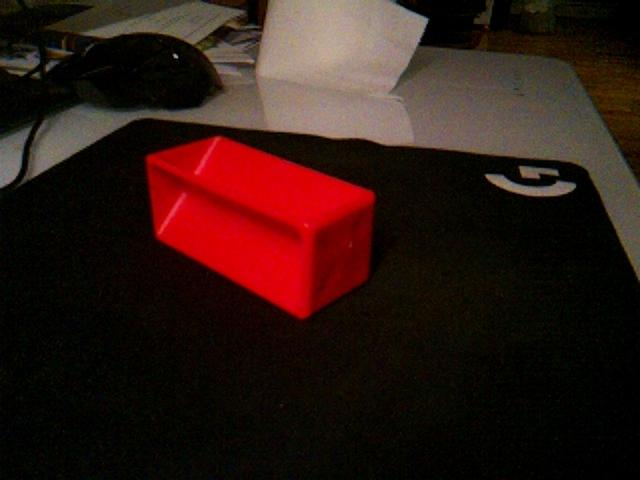red: (144, 134, 378, 321)
